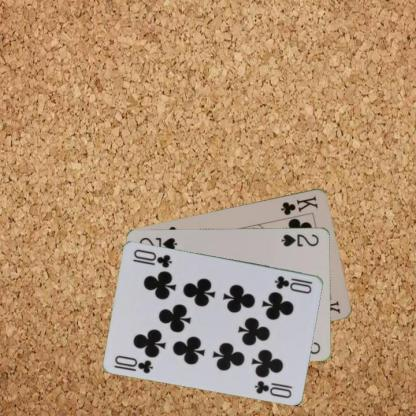10c: (112, 352, 155, 374), (272, 272, 314, 294)
2s: (279, 231, 320, 247)
Kc: (278, 193, 320, 216)
